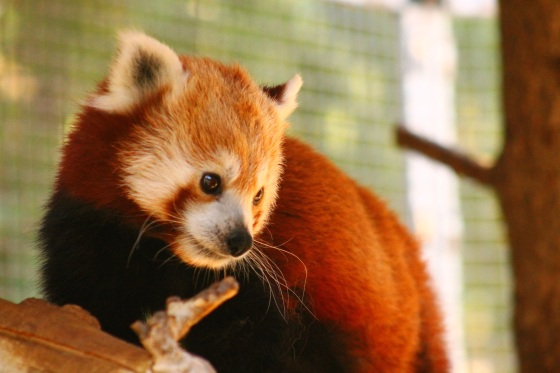red_panda: (32, 38, 457, 373)
